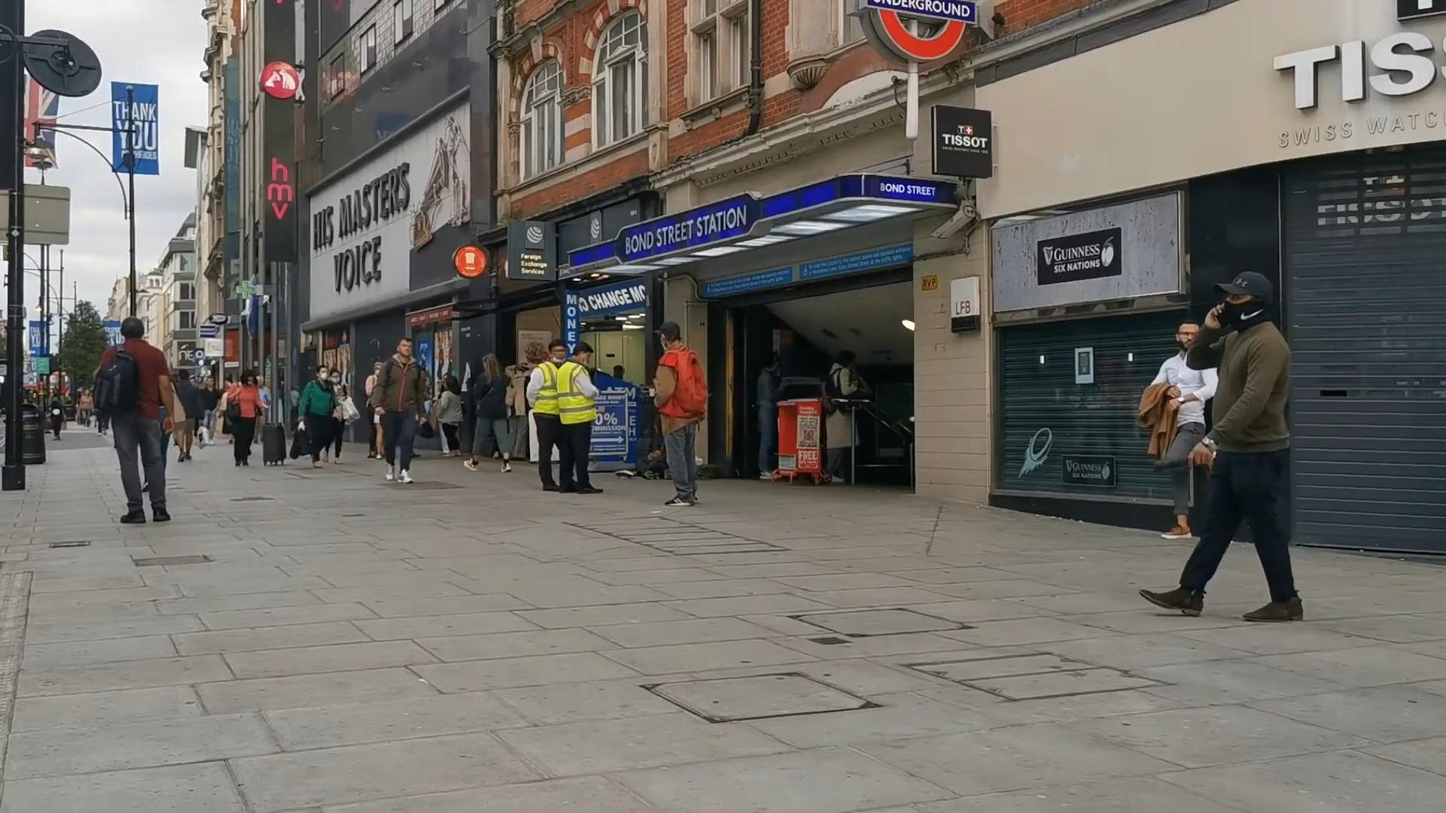no-helmet: (1215, 271, 1273, 331), (653, 320, 680, 351), (1176, 319, 1200, 352), (482, 352, 500, 385), (120, 316, 144, 340), (573, 341, 594, 367), (549, 339, 566, 363), (444, 375, 461, 396), (397, 337, 413, 358), (240, 369, 258, 387), (315, 365, 329, 381), (329, 368, 341, 384)
